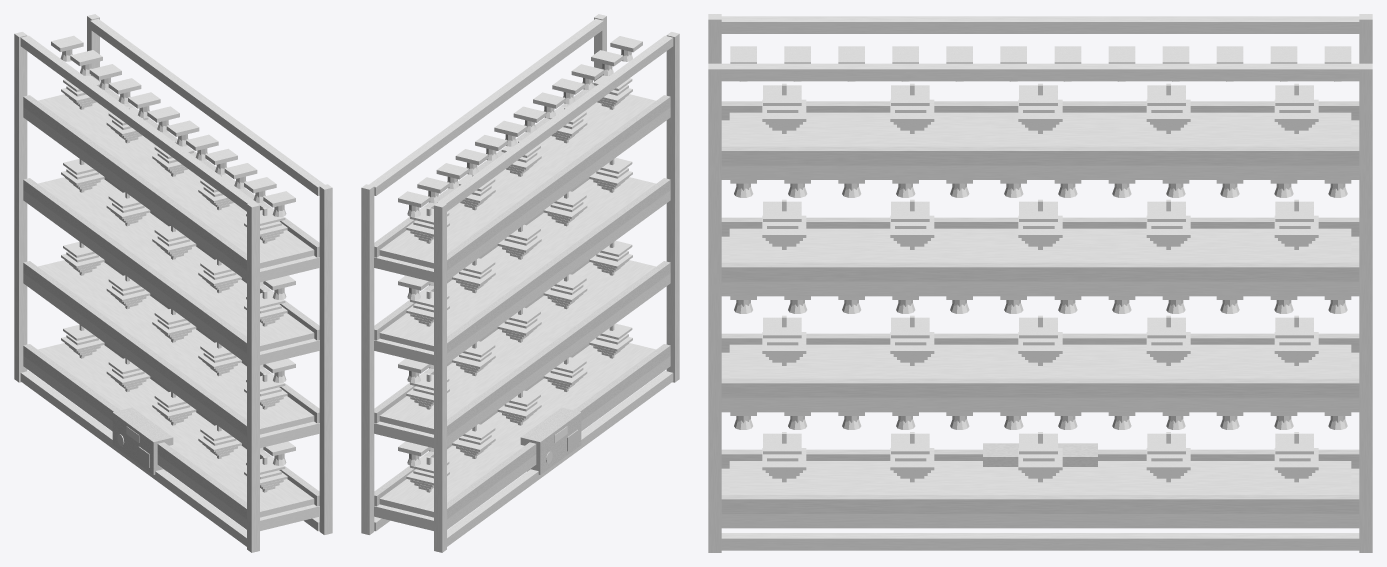
The model's file is growingbed.obj.
3 renders of one model, left to right at view 1: azimuth 30°, elevation 25°; view 2: azimuth 150°, elevation 25°; view 3: azimuth 270°, elevation 25°, orthographic. The views are drawn at different scales.
Parts seen in each view (by area): view 1: Frame, Soil, Black, Plants3, Plants2, Plants1, Bulbs, Plants0; view 2: Frame, Soil, Black, Plants3, Plants2, Plants1, Bulbs, Plants0; view 3: Frame, Black, Soil, Plants3, Plants2, Bulbs, Plants1, Plants0.
Part boxes in pixels (x1,y1,x2,y2): Frame: (14, 14, 332, 552); Soil: (38, 94, 314, 517); Black: (23, 49, 319, 519); Plants3: (61, 75, 287, 491); Plants2: (65, 86, 283, 491); Plants1: (69, 98, 279, 492); Bulbs: (60, 54, 286, 465); Plants0: (73, 102, 275, 492); Frame: (361, 14, 679, 552); Soil: (379, 94, 655, 517); Black: (374, 49, 670, 519); Plants3: (406, 75, 632, 491); Plants2: (410, 85, 628, 487); Plants1: (414, 98, 624, 491); Bulbs: (407, 54, 632, 465); Plants0: (418, 102, 620, 492); Frame: (708, 14, 1372, 552); Black: (721, 101, 1359, 513); Soil: (729, 112, 1351, 494); Plants3: (762, 83, 1318, 481); Plants2: (765, 106, 1315, 482); Bulbs: (734, 81, 1347, 429); Plants1: (769, 124, 1311, 482); Plants0: (772, 127, 1308, 482).
Size of the model in its own units: 0.99 by 4 by 4.98.
